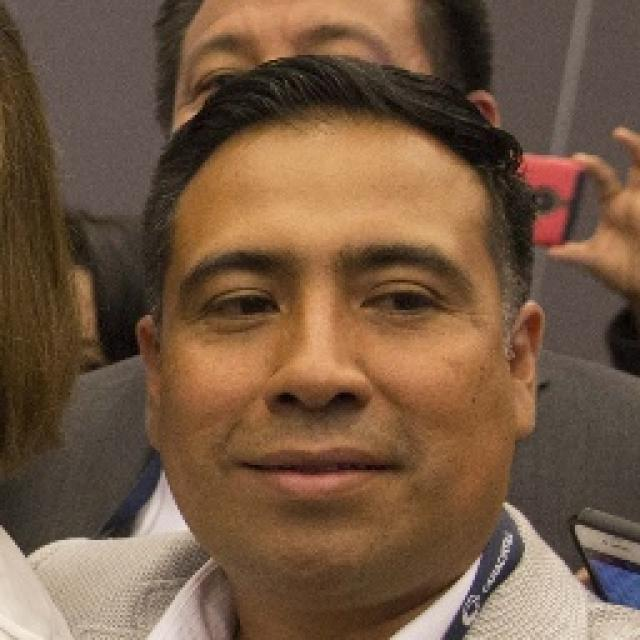earlobe: (507, 381, 541, 442), (141, 393, 167, 452)
eye: (360, 286, 441, 316), (202, 290, 279, 318)
nose: (262, 387, 375, 444)
wholeear: (508, 299, 545, 442), (134, 314, 167, 452)
